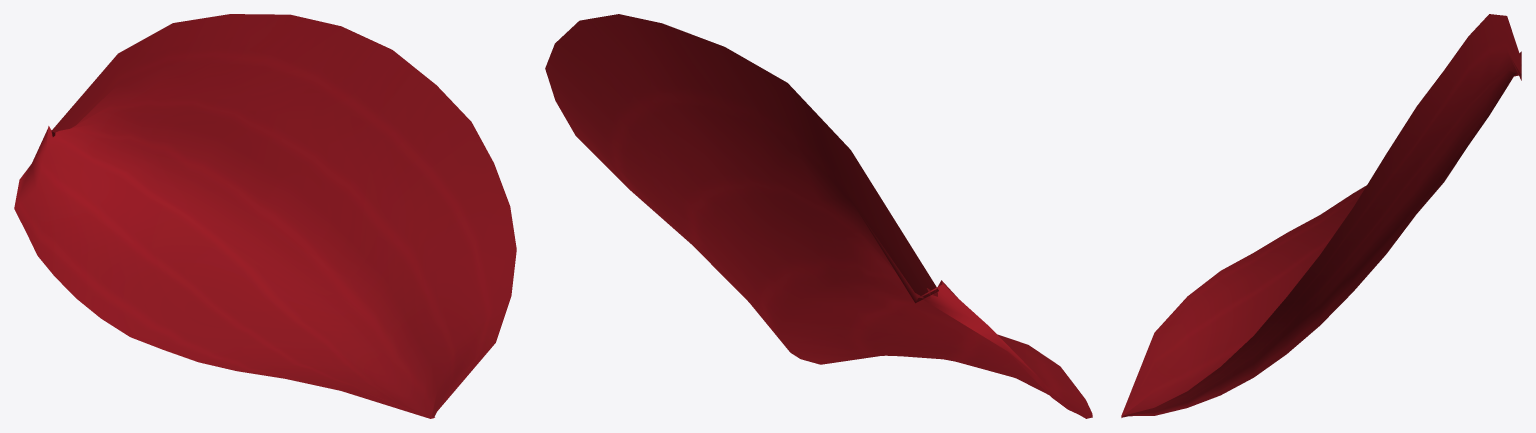
Rendered from petal_24_folded_mix.glb.
3 views of the same model, side by side, from view 1: azimuth 30°, elevation 25°; view 2: azimuth 150°, elevation 25°; view 3: azimuth 270°, elevation 25° (orthographic). The views are drawn at different scales.
Parts seen in each view (by area): view 1: petal_24_folded_mix; view 2: petal_24_folded_mix; view 3: petal_24_folded_mix.
Boxes of the visible parts, x1=… form: petal_24_folded_mix: x1=14, y1=14, x2=516, y2=418; petal_24_folded_mix: x1=545, y1=14, x2=1092, y2=418; petal_24_folded_mix: x1=1121, y1=14, x2=1521, y2=417.
Bounding box in the file's own units: 0.0946 × 0.0703 × 0.0725.
1 material, 1 textured.
